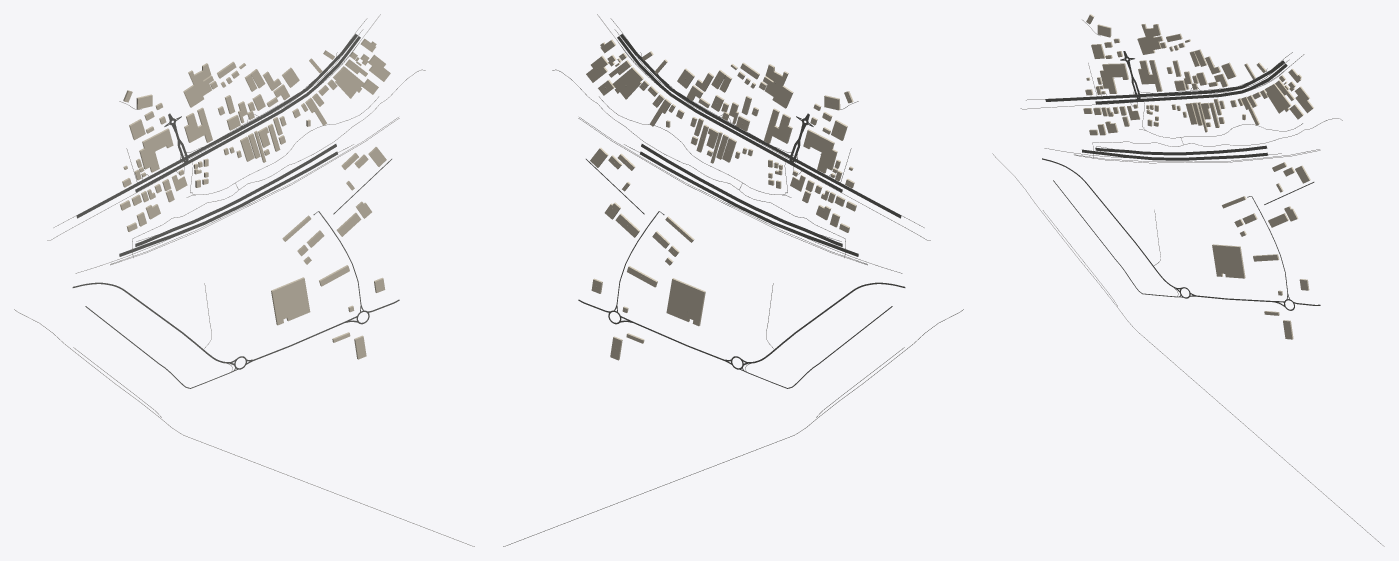
File: historic-palestine-09_34_3506_3280.glb
3 views of the same model, side by side, from view 1: azimuth 30°, elevation 25°; view 2: azimuth 150°, elevation 25°; view 3: azimuth 330°, elevation 25° (orthographic). The views are drawn at different scales.
Parts seen in each view (by area): view 1: Building_.062, Building_, Building_.002, Building_.001, Road עוקף קריות, Building_.081; view 2: Building_.062, Building_, Building_.002, Building_.001, Road עוקף קריות, Building_.081; view 3: Building_.062, Building_, Building_.002, Building_.001.
Part boxes in pixels (bbox=[...]): Building_.062: bbox=[271, 277, 310, 325]; Building_: bbox=[139, 128, 173, 172]; Building_.002: bbox=[183, 63, 213, 107]; Building_.001: bbox=[184, 107, 212, 142]; Road עוקף קריות: bbox=[135, 178, 278, 246]; Building_.081: bbox=[333, 66, 364, 98]; Building_.062: bbox=[666, 278, 705, 326]; Building_: bbox=[803, 129, 837, 173]; Building_.002: bbox=[763, 64, 793, 108]; Building_.001: bbox=[764, 108, 792, 143]; Road עוקף קריות: bbox=[699, 178, 842, 246]; Building_.081: bbox=[612, 67, 643, 99]; Building_.062: bbox=[1212, 244, 1245, 278]; Building_: bbox=[1100, 63, 1128, 93]; Building_.002: bbox=[1137, 24, 1163, 54]; Building_.001: bbox=[1138, 60, 1162, 91].
Bounding box in the file's own units: 1693 × 1952 × 8.7.
